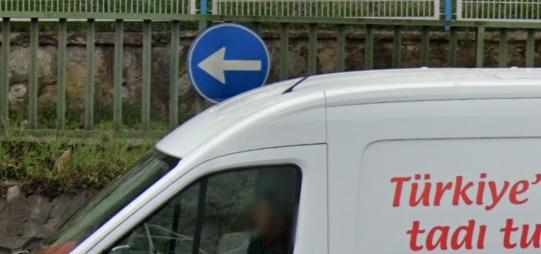turnleft: (192, 27, 270, 93)
